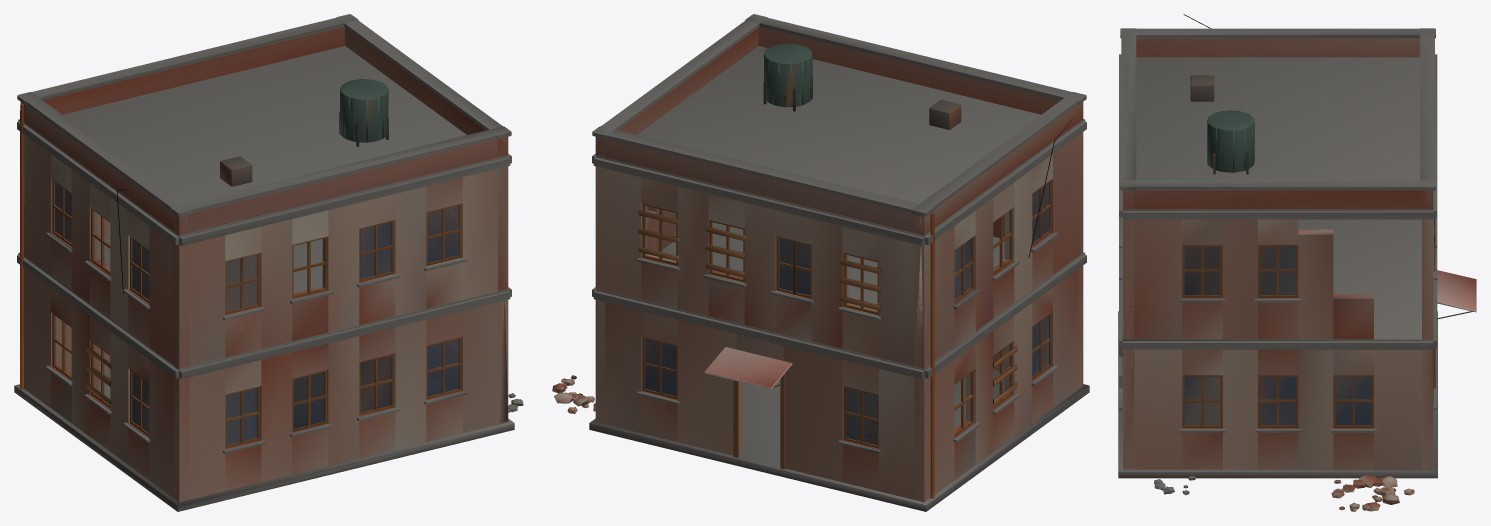
File: BrickHouse.fbx
The picture shows the model from 3 angles, left to right: view 1: azimuth 30°, elevation 25°; view 2: azimuth 150°, elevation 25°; view 3: azimuth 270°, elevation 25°; orthographic projection. The views are drawn at different scales.
Parts seen in each view (by area): view 1: Shell, Shell__L1, Detail, Detail__L1, Glass, Shell__L2; view 2: Shell, Shell__L1, Detail, Detail__L1, Glass, Shell__L2; view 3: Shell, Shell__L1, Detail, Detail__L1, Glass, Detail__L2.
Part boxes in pixels (x1,y1,x2,y2): Shell: (14, 27, 514, 511); Shell__L1: (21, 27, 508, 504); Detail: (17, 14, 523, 453); Detail__L1: (17, 14, 517, 447); Glass: (55, 182, 458, 445); Shell__L2: (24, 136, 508, 454); Shell: (589, 27, 1089, 511); Shell__L1: (589, 27, 1088, 505); Detail: (552, 14, 1086, 498); Detail__L1: (562, 14, 1086, 491); Glass: (645, 182, 1048, 445); Shell__L2: (645, 216, 1006, 453); Shell: (1118, 38, 1437, 478); Shell__L1: (1118, 38, 1437, 476); Detail: (1119, 14, 1476, 511); Detail__L1: (1119, 29, 1437, 509); Glass: (1184, 246, 1371, 425); Detail__L2: (1154, 110, 1414, 511).
Bounding box in the file's own units: 10.14 × 7.4 × 7.58.
